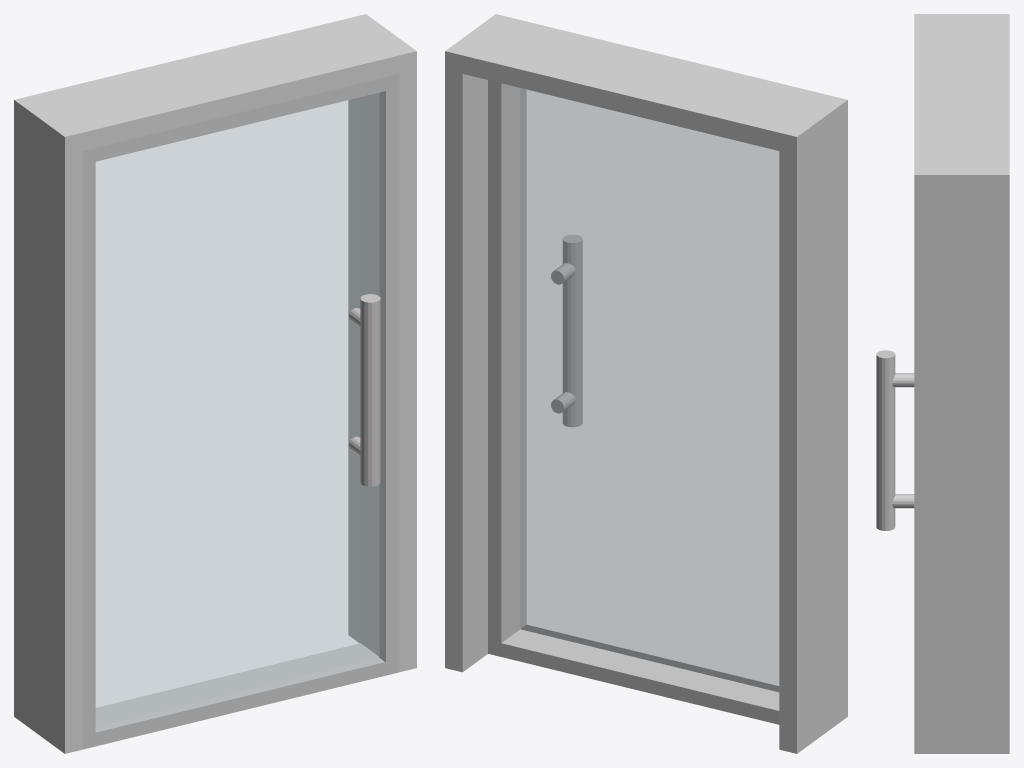
Rendered from glass_door.glb.
3 renders of one model, left to right at view 1: azimuth 30°, elevation 25°; view 2: azimuth 150°, elevation 25°; view 3: azimuth 270°, elevation 25°, orthographic. The views are drawn at different scales.
Visible parts, largest first — view 1: Door, Frame; view 2: Door, Frame; view 3: Frame, Door.
Part boxes in pixels (left/top/right/bottom): Door: left=82, top=74, right=399, bottom=749; Frame: left=14, top=14, right=416, bottom=753; Door: left=488, top=80, right=779, bottom=724; Frame: left=445, top=14, right=847, bottom=753; Frame: left=914, top=14, right=1009, bottom=753; Door: left=876, top=350, right=914, bottom=530.
Bounding box in the file's own units: 2 × 3.35 × 0.7.
